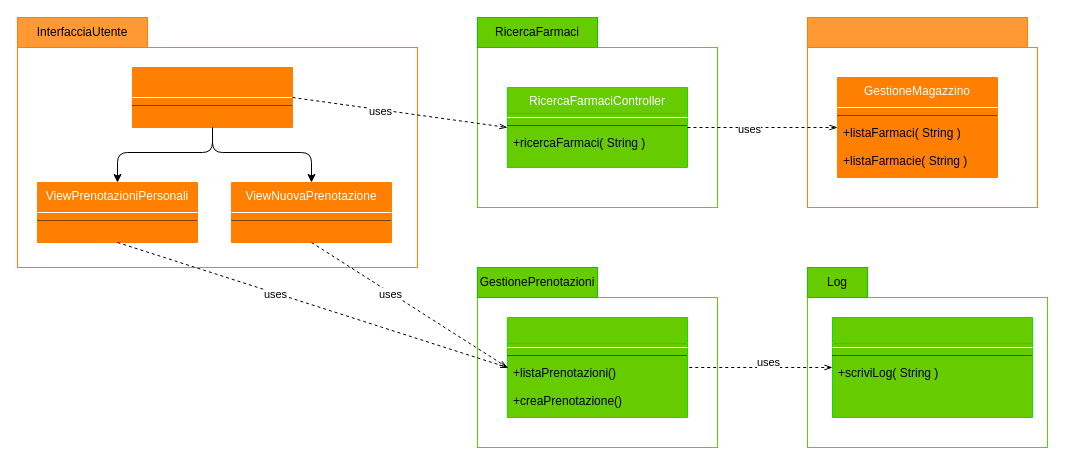
The diagram is 1065 pixels wide and 465 high, and some of its shapes have lost their labels. The box of each missing label's shape, as (x1, y1, x2, y2) in pixels:
GestionePrenotazioniController: (506, 316, 688, 418)
HomeServizio: (132, 66, 292, 128)
InterfacciaGestioneMagazzino: (806, 16, 1028, 48)
LogController: (832, 316, 1032, 418)
